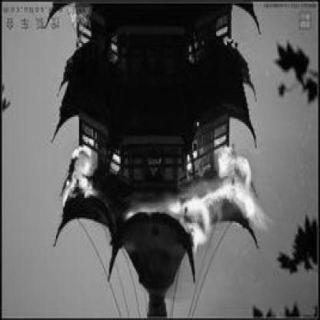Fire: (166, 146, 273, 256), (61, 139, 100, 213), (123, 204, 161, 224), (189, 37, 203, 64), (109, 154, 122, 182)
